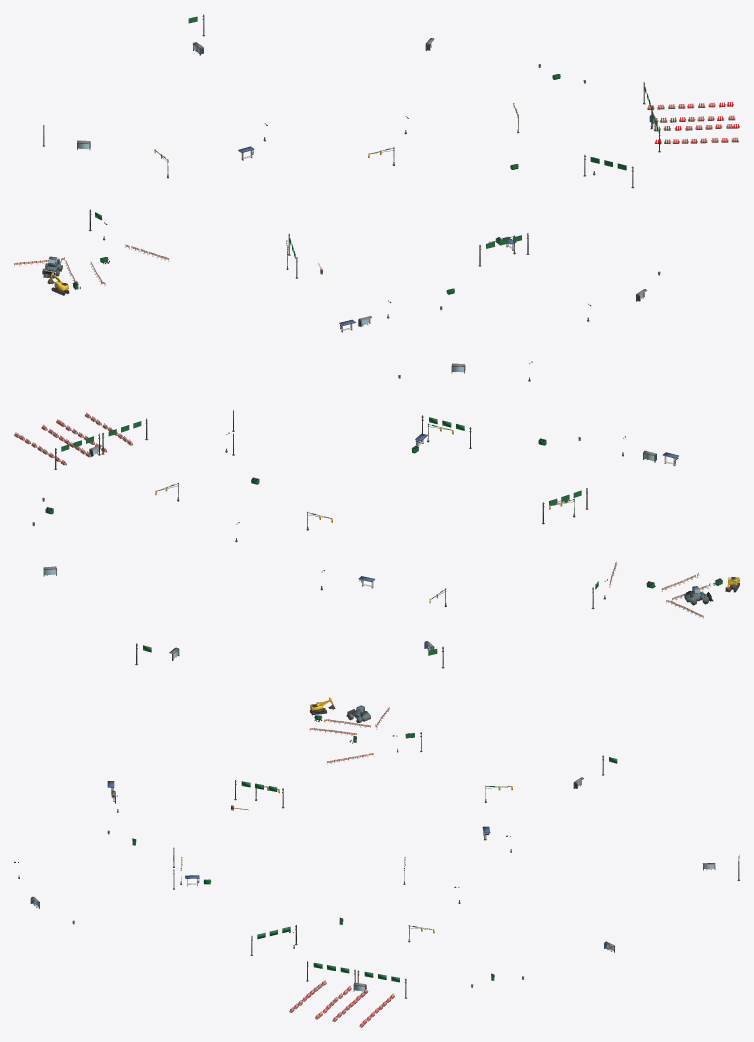
File: roaddetails.glb
The picture shows the model from 3 angles, top to bottom: view 1: azimuth 30°, elevation 25°; view 2: azimuth 150°, elevation 25°; view 3: azimuth 270°, elevation 25°; orthographic projection. The views are drawn at different scales.
Visible parts, largest first — view 1: Bulldozer.003; view 2: Bulldozer.003; view 3: Bulldozer.003.
Boxes of the visible parts, x1,y1,x2,y2 form: Bulldozer.003: [14, 14, 739, 332]; Bulldozer.003: [14, 361, 739, 668]; Bulldozer.003: [14, 697, 739, 1027].
Bounding box in the file's own units: 2406 × 69.8 × 2317.
Materials: 1 (1 with a texture image).
